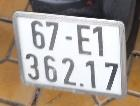1: (91, 24, 107, 58), (85, 58, 97, 89)
2: (60, 56, 77, 87)
3: (25, 51, 40, 80)
6: (30, 18, 46, 50), (42, 54, 59, 83)
7: (102, 60, 120, 93), (45, 20, 59, 52)
E: (75, 24, 92, 56)
